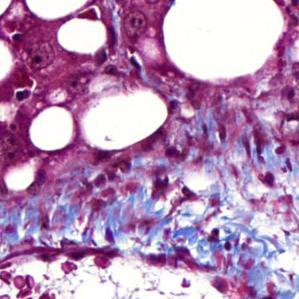steatosis: (30, 104, 77, 156), (56, 18, 108, 54)
